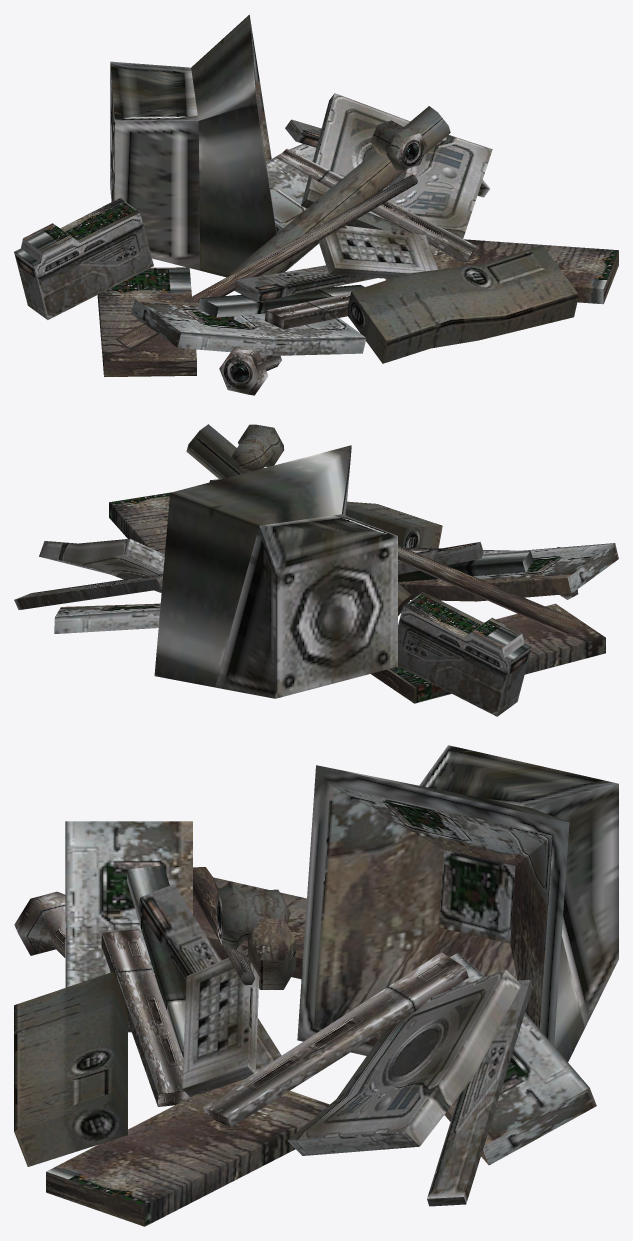
The model's file is thm_all_imprv_trash_pile_s01_l0.fbx.
3 views of the same model, one above another, from view 1: azimuth 30°, elevation 25°; view 2: azimuth 150°, elevation 25°; view 3: azimuth 270°, elevation 25° (orthographic). The views are drawn at different scales.
Parts seen in each view (by area): view 1: mesh_node; view 2: mesh_node; view 3: mesh_node.
Boxes of the visible parts, x1,y1,x2,y2 form: mesh_node: (14, 14, 618, 395); mesh_node: (14, 424, 618, 716); mesh_node: (14, 745, 618, 1226).
Bounding box in the file's own units: 1.19 × 0.4327 × 0.9062.
1 material, 1 textured.
